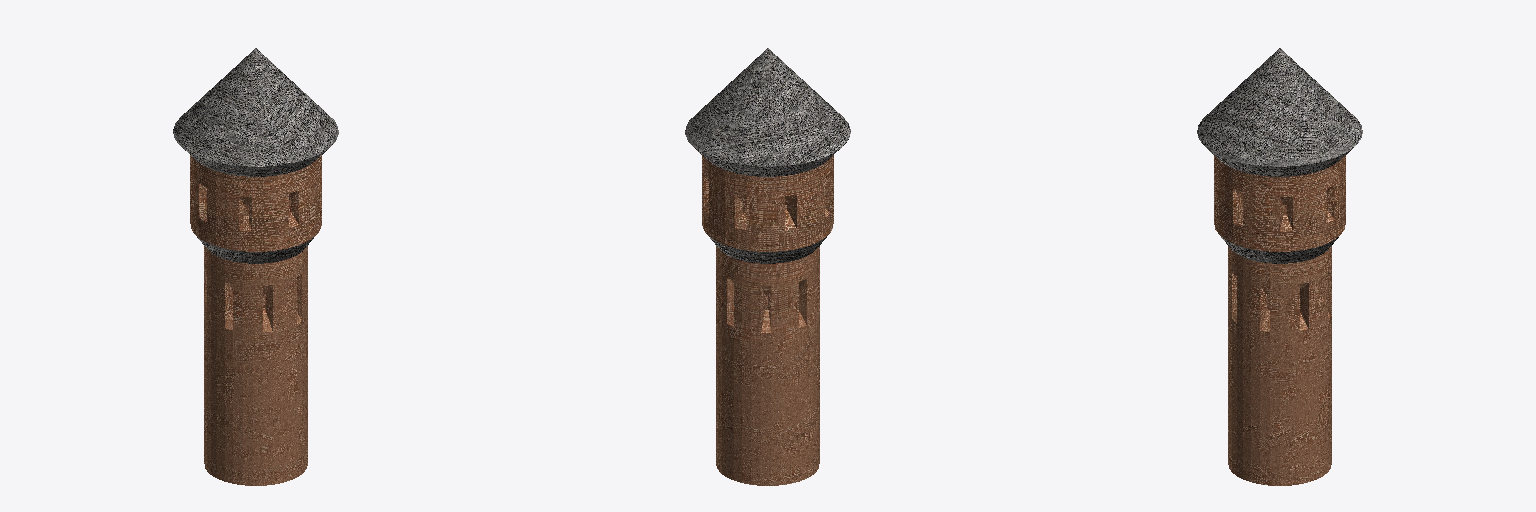
3 views of the same model, side by side, from view 1: azimuth 30°, elevation 25°; view 2: azimuth 150°, elevation 25°; view 3: azimuth 270°, elevation 25° (orthographic).
Visible parts, largest first — view 1: Cylinder.001, Cylinder; view 2: Cylinder.001, Cylinder; view 3: Cylinder.001, Cylinder.
Part boxes in pixels (x1,y1,x2,y2): Cylinder.001: (190,155,321,485); Cylinder: (173,48,338,263); Cylinder.001: (702,155,833,485); Cylinder: (685,48,850,263); Cylinder.001: (1214,155,1345,485); Cylinder: (1197,48,1362,263).
Bounding box in the file's own units: 47.69 × 132 × 47.69.
2 materials, 2 textured.